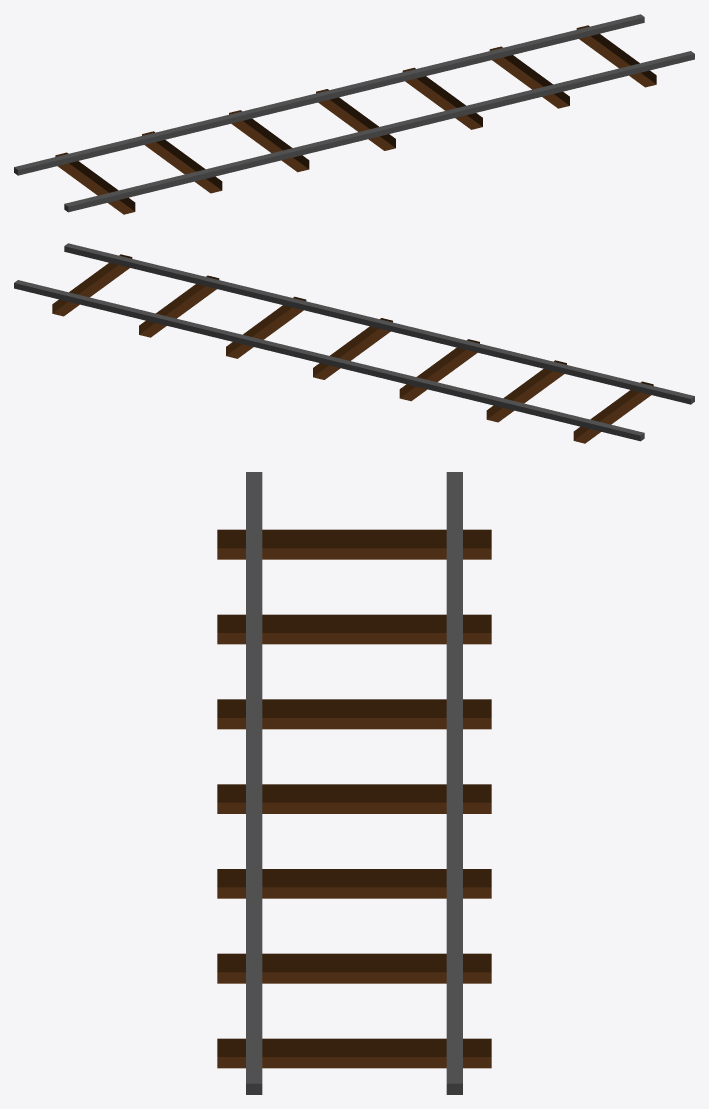
The model's file is TrainTrack.fbx.
3 views of the same model, one above another, from view 1: azimuth 30°, elevation 25°; view 2: azimuth 150°, elevation 25°; view 3: azimuth 270°, elevation 25° (orthographic). The views are drawn at different scales.
Parts seen in each view (by area): view 1: Cube.010; view 2: Cube.010; view 3: Cube.010.
Boxes of the visible parts, x1,y1,x2,y2 form: Cube.010: (14,14,694,214); Cube.010: (14,243,694,443); Cube.010: (217,472,491,1094).
Bounding box in the file's own units: 1443 × 31.78 × 273.
